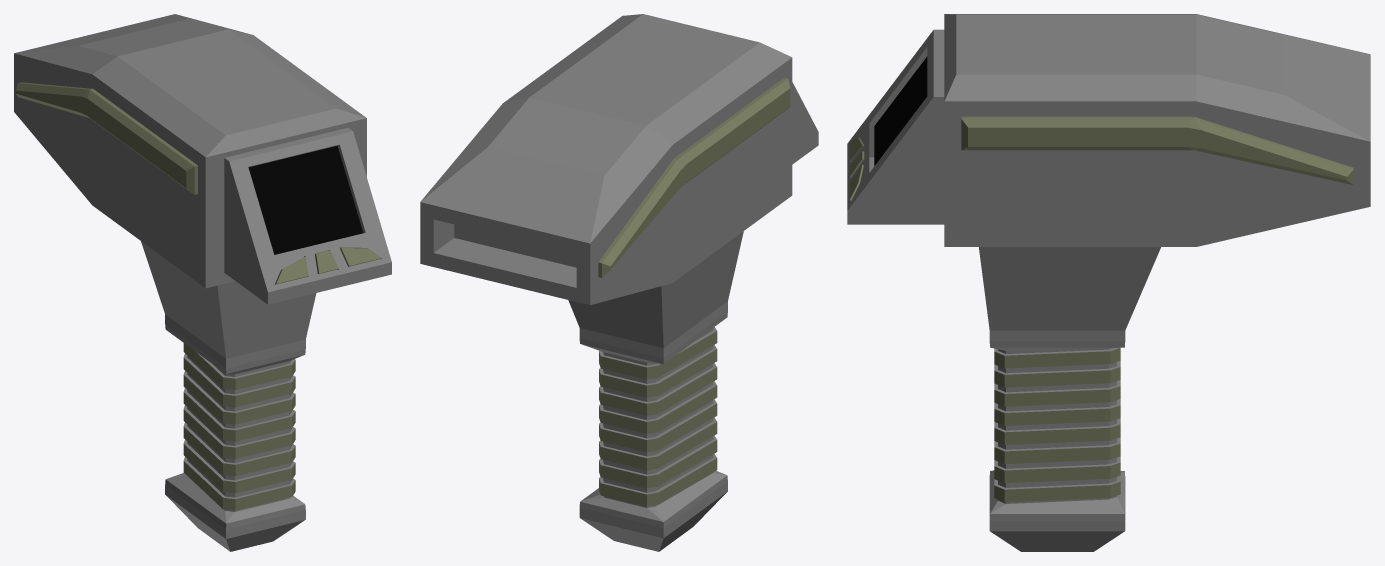
File: Multitool.fbx
3 views of the same model, side by side, from view 1: azimuth 30°, elevation 25°; view 2: azimuth 150°, elevation 25°; view 3: azimuth 270°, elevation 25° (orthographic). The views are drawn at different scales.
Visible parts, largest first — view 1: Multitool; view 2: Multitool; view 3: Multitool.
Part boxes in pixels (left/top/right/bottom): Multitool: left=14, top=14, right=391, bottom=551; Multitool: left=420, top=14, right=818, bottom=551; Multitool: left=847, top=14, right=1370, bottom=551.
Size of what is drawn, in the model's own units: 13.27 by 31.64 by 30.26.
